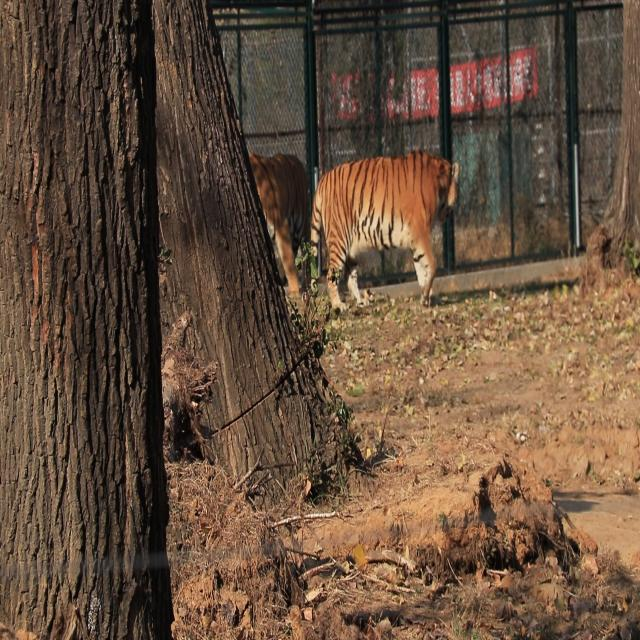Tiger: (302, 143, 476, 316), (238, 134, 313, 286)
